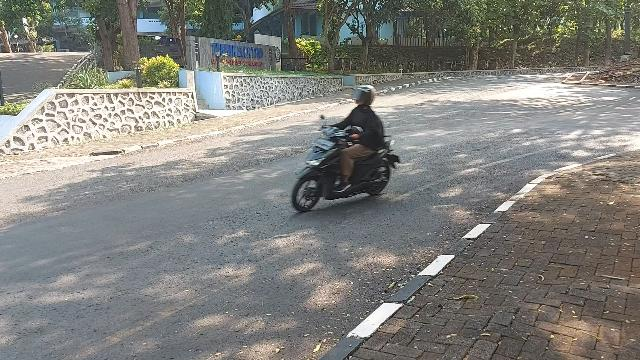helm: (353, 86, 375, 107)
motor: (293, 116, 401, 215)
